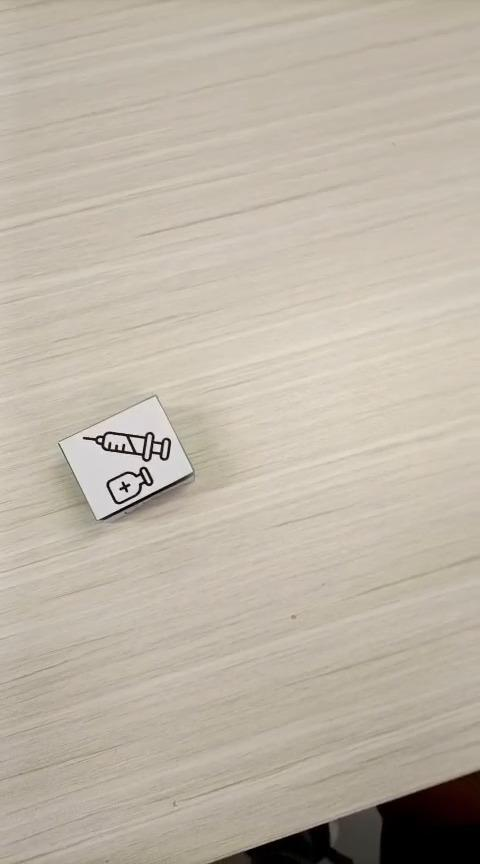antiseptic cream: (56, 392, 195, 522)
